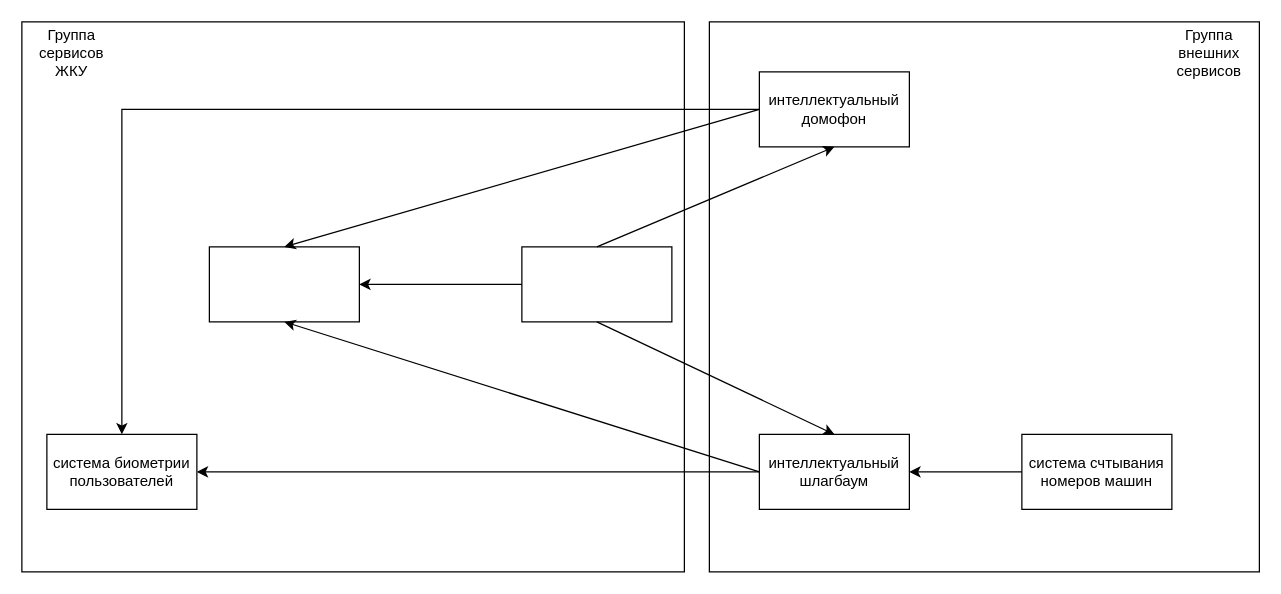
Image size: 1281x594. Some labels were removed from this diagram. Here are the shapes that lost their labels. From the top down, the centre of each, then its label:
At [283,284]: "система аутентификации и авторизации".
At [596,284]: "мобильное приложение".
